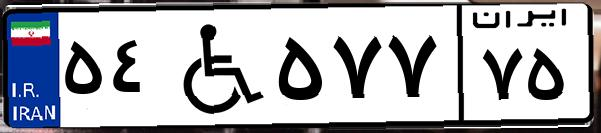4: (110, 28, 158, 98)
5: (270, 28, 330, 110), (57, 26, 110, 100), (525, 38, 570, 115)
7: (385, 28, 445, 110), (330, 28, 385, 110), (475, 38, 525, 113)
ژ (معلولین و جانبازان): (158, 12, 270, 120)
